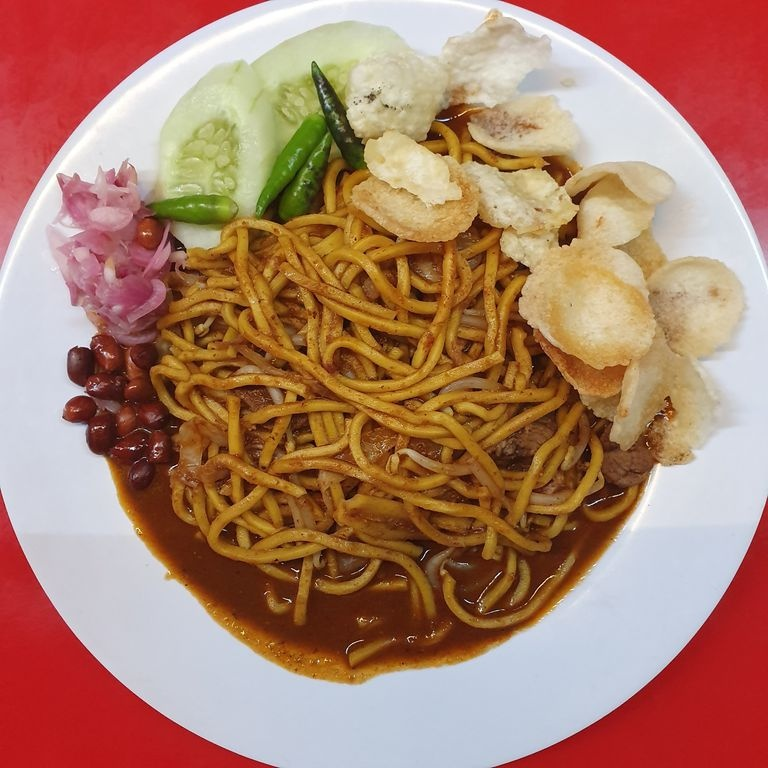mie_aceh: (55, 183, 667, 671)
